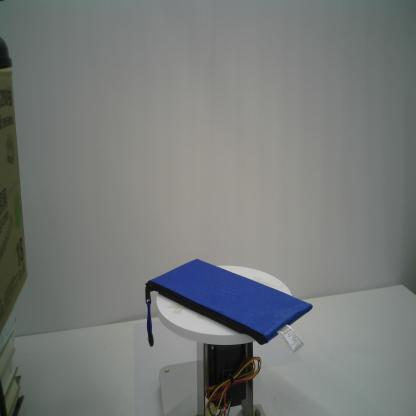Stationery: (145, 258, 313, 348)
